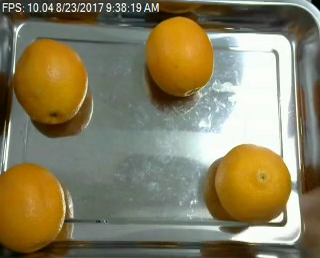Orange: (12, 38, 87, 124), (215, 141, 291, 223), (1, 163, 67, 252), (146, 15, 214, 95)
